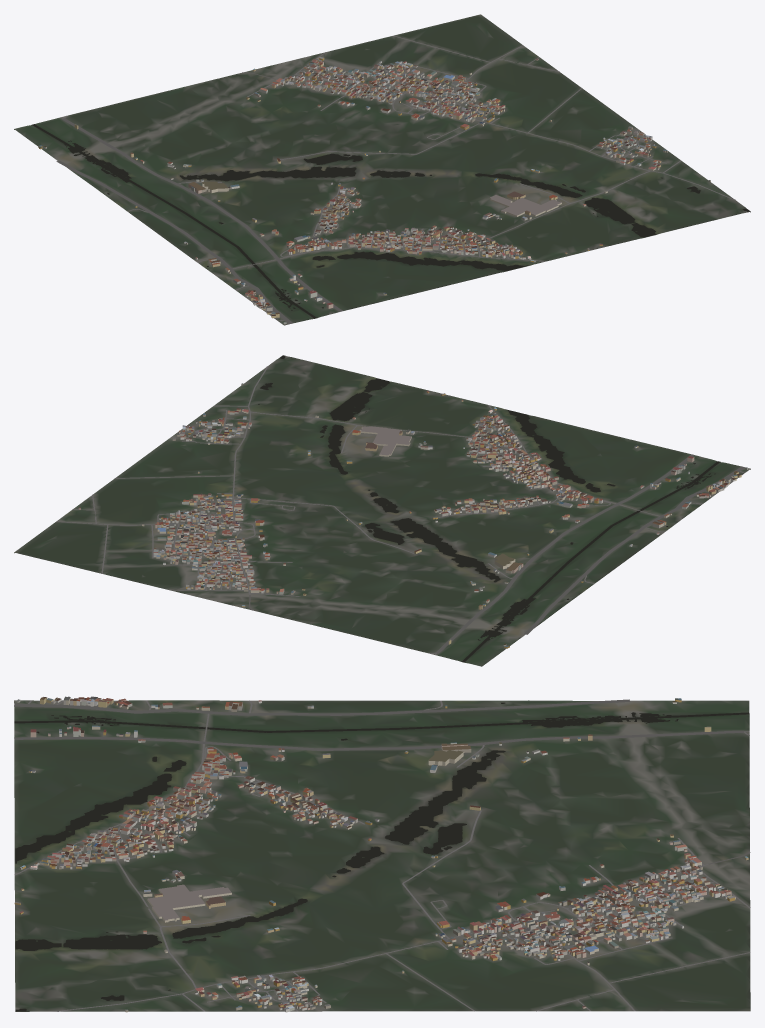
The picture shows the model from 3 angles, top to bottom: view 1: azimuth 30°, elevation 25°; view 2: azimuth 150°, elevation 25°; view 3: azimuth 270°, elevation 25°; orthographic projection. The views are drawn at different scales.
Parts seen in each view (by area): view 1: ground, buildings, water, roads; view 2: ground, buildings, water, roads; view 3: ground, buildings, water, roads.
Part boxes in pixels (x1,y1,x2,y2): ground: (14,14,750,325); buildings: (38,57,710,324); water: (32,124,749,318); roads: (56,35,735,324); ground: (14,355,750,666); buildings: (78,383,748,648); water: (258,355,720,662); roads: (56,366,745,654); ground: (14,700,750,1011); buildings: (14,696,748,1012); water: (14,702,749,1011); roads: (14,699,750,1011).
Bounding box in the file's own units: 1413 × 17.76 × 1405.
